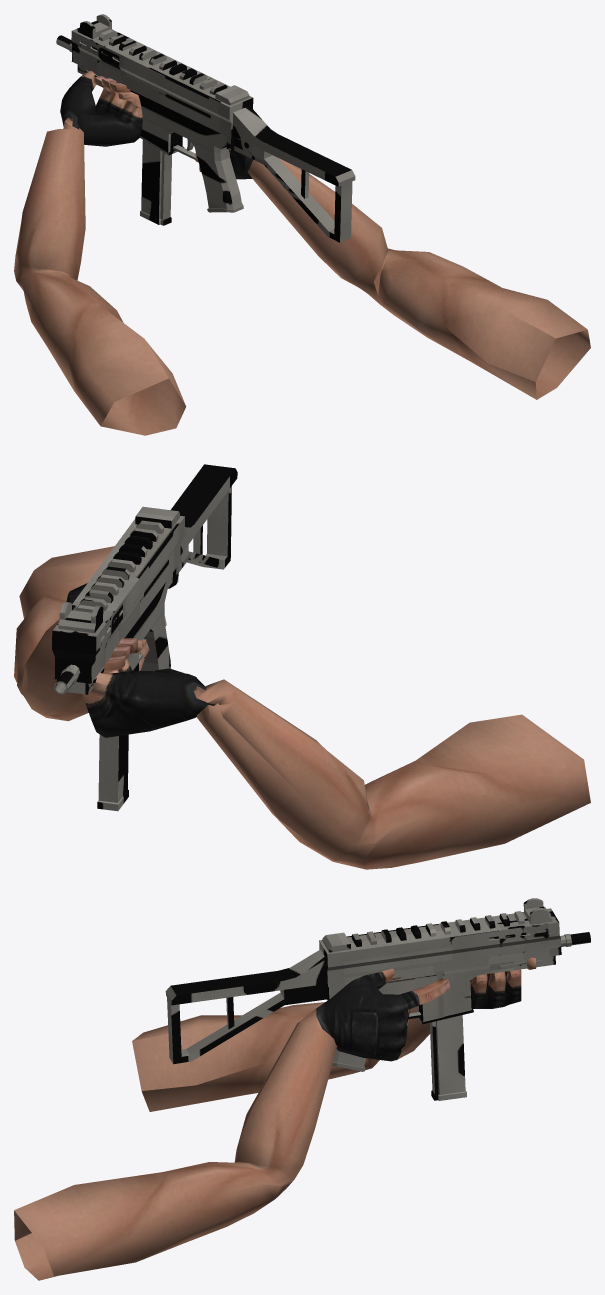
The model's file is gun_mp7.glb.
3 views of the same model, one above another, from view 1: azimuth 30°, elevation 25°; view 2: azimuth 150°, elevation 25°; view 3: azimuth 270°, elevation 25° (orthographic). The views are drawn at different scales.
Parts seen in each view (by area): view 1: body_ARMS, body_QUAT, mag_QUAT, body_QUATP; view 2: body_ARMS, body_QUAT, body_QUATP, mag_QUAT; view 3: body_ARMS, body_QUAT, mag_QUAT, body_QUATP.
Part boxes in pixels (x1=…): body_ARMS: x1=14, y1=71, x2=590, y2=435; body_QUAT: x1=56, y1=14, x2=355, y2=242; mag_QUAT: x1=141, y1=140, x2=171, y2=224; body_QUATP: x1=98, y1=29, x2=227, y2=150; body_ARMS: x1=14, y1=546, x2=590, y2=869; body_QUAT: x1=52, y1=464, x2=237, y2=694; body_QUATP: x1=74, y1=520, x2=163, y2=612; mag_QUAT: x1=98, y1=734, x2=128, y2=804; body_ARMS: x1=14, y1=957, x2=536, y2=1280; body_QUAT: x1=165, y1=898, x2=590, y2=1071; mag_QUAT: x1=430, y1=1015, x2=465, y2=1098; body_QUATP: x1=351, y1=911, x2=524, y2=946.
Size of the model in its own units: 74.27 by 40.16 by 79.74.
Materials: 3 (3 with a texture image).
